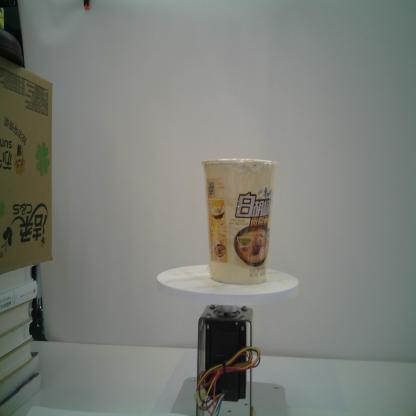Instant Noodles: (201, 156, 280, 287)
